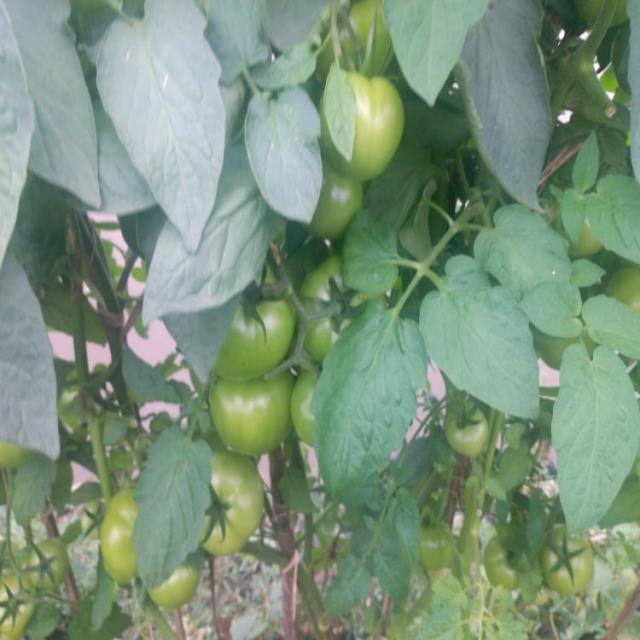tomato: (300, 256, 396, 360), (214, 260, 293, 376), (324, 73, 399, 180), (208, 373, 292, 460), (310, 1, 398, 72), (205, 460, 266, 556), (306, 165, 369, 238), (101, 489, 142, 588), (545, 527, 593, 598), (1, 563, 40, 637), (552, 212, 610, 257), (25, 540, 74, 593), (291, 364, 322, 443), (441, 402, 481, 458), (151, 565, 204, 607), (488, 535, 525, 590), (418, 516, 455, 563), (613, 28, 640, 87), (608, 265, 640, 314), (578, 2, 636, 29), (78, 500, 107, 537)
